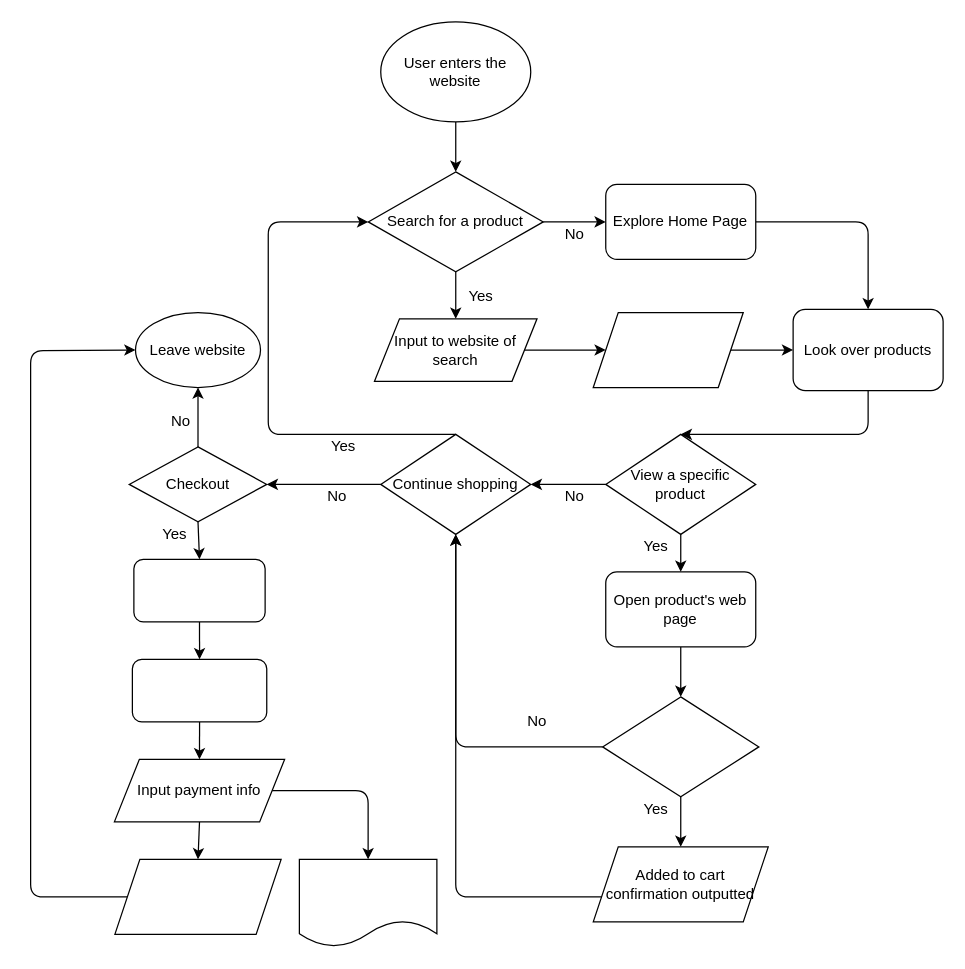
The diagram is 965 pixels wide and 969 high, and some of its shapes have lost their labels. Here are the shapes that lost their labels. From the top down, the centre of each, then its label:
At pixel 667 349: "Search results".
At pixel 199 590: "Go to View Cart screen".
At pixel 199 690: "Go to View Payment screen".
At pixel 680 746: "Add to cart".
At pixel 197 896: "Order confirmation screen outputted".
At pixel 367 902: "Email confirmation".
